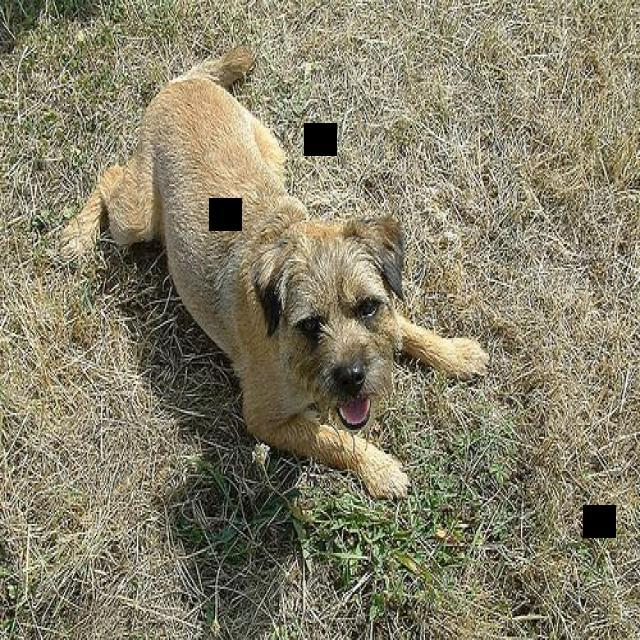adult_dog: (58, 44, 491, 502)
